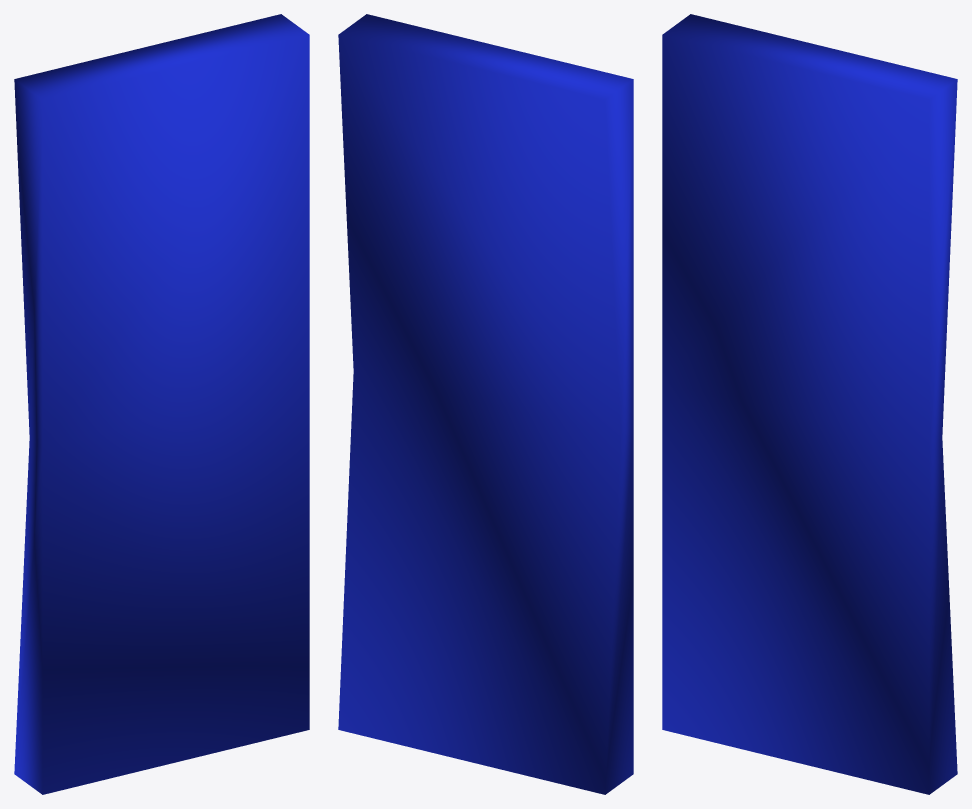
File: VMP_MOD_Soft_serve_machine_01_button_01.fbx
The picture shows the model from 3 angles, left to right: view 1: azimuth 30°, elevation 25°; view 2: azimuth 150°, elevation 25°; view 3: azimuth 330°, elevation 25°; orthographic projection.
Parts seen in each view (by area): view 1: VMP_MOD_Soft_serve_machine_01_button_01; view 2: VMP_MOD_Soft_serve_machine_01_button_01; view 3: VMP_MOD_Soft_serve_machine_01_button_01.
Part boxes in pixels (<box>): VMP_MOD_Soft_serve_machine_01_button_01: <box>14,14,309,794</box>; VMP_MOD_Soft_serve_machine_01_button_01: <box>338,14,633,794</box>; VMP_MOD_Soft_serve_machine_01_button_01: <box>662,14,957,794</box>.
Size of the model in its own units: 0.0213 by 0.053 by 0.00392.
